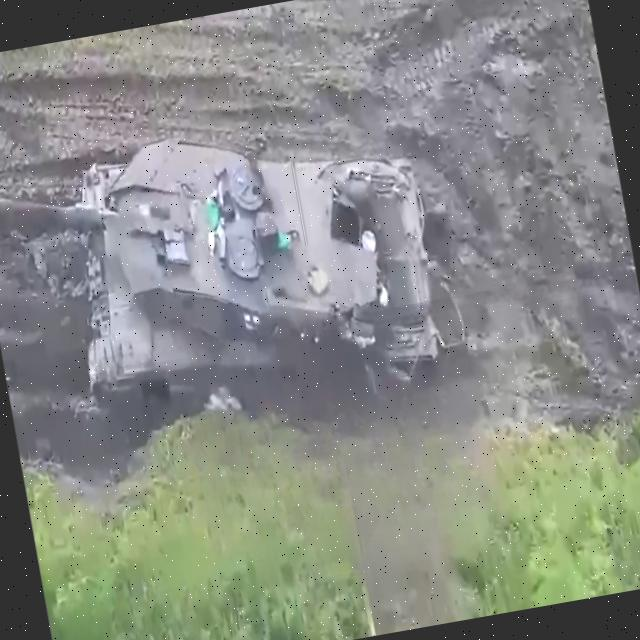MBT: (1, 86, 463, 457)
